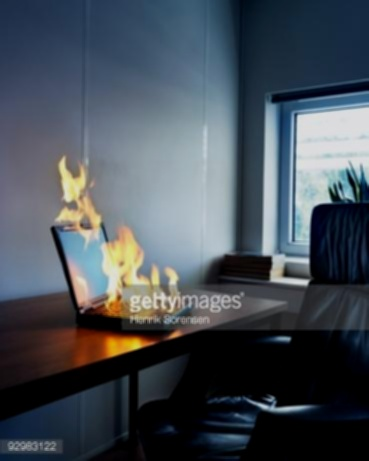fire: (45, 150, 197, 339)
